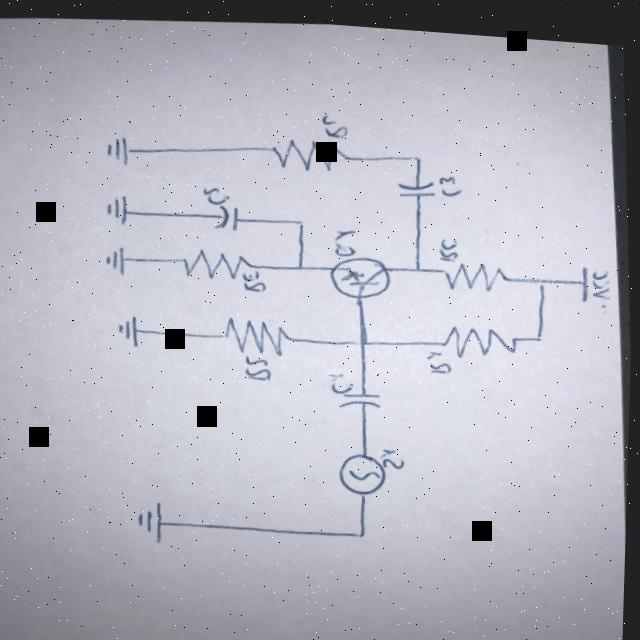capacitor: (340, 383, 387, 406), (395, 171, 441, 194), (215, 198, 242, 228)
ground: (136, 495, 170, 543), (104, 132, 133, 165), (104, 190, 132, 224), (118, 310, 144, 346), (105, 242, 130, 274)
junction: (533, 267, 553, 281), (407, 146, 426, 160), (411, 256, 427, 268), (533, 323, 549, 335), (357, 522, 372, 534), (358, 332, 373, 344), (294, 257, 309, 269), (295, 212, 310, 224)
resistor: (268, 128, 355, 171), (439, 313, 526, 356), (220, 308, 297, 355), (179, 239, 259, 280), (439, 249, 517, 288)
source: (339, 442, 392, 492), (565, 253, 595, 294)
text: (319, 106, 351, 135), (246, 348, 275, 379), (591, 259, 616, 293), (426, 341, 455, 370), (330, 364, 359, 391), (335, 221, 360, 252), (203, 180, 234, 204), (438, 165, 465, 192), (242, 265, 270, 290), (438, 229, 462, 256), (382, 448, 410, 465)
transistor: (330, 247, 396, 297)
